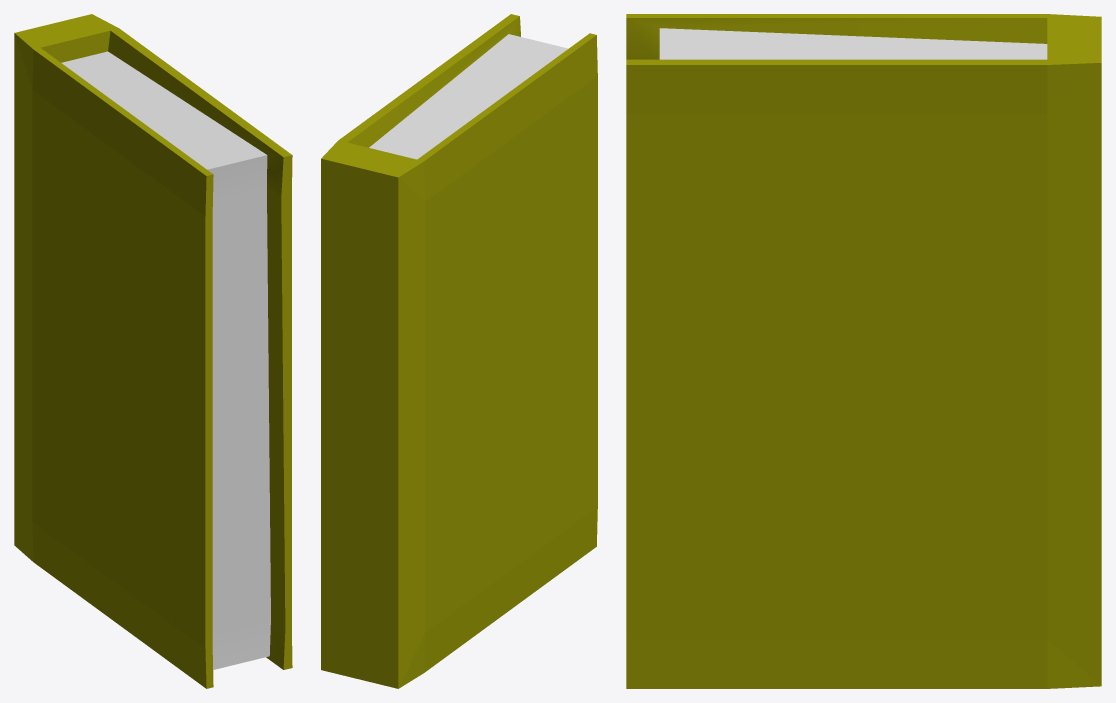
The model's file is Big_Book_Yellow.fbx.
3 renders of one model, left to right at view 1: azimuth 30°, elevation 25°; view 2: azimuth 150°, elevation 25°; view 3: azimuth 270°, elevation 25°, orthographic. The views are drawn at different scales.
Visible parts, largest first — view 1: Book1; view 2: Book1; view 3: Book1.
Part boxes in pixels (x1,y1,x2,y2): Book1: (14,14,292,688); Book1: (321,14,597,688); Book1: (626,14,1101,688).
Size of the model in its own units: 0.09 by 0.5071 by 0.3501.
